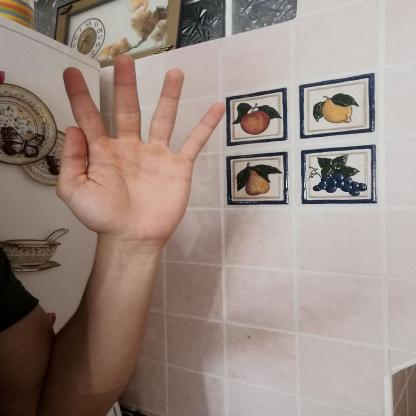SHEEN: (39, 46, 237, 254)
